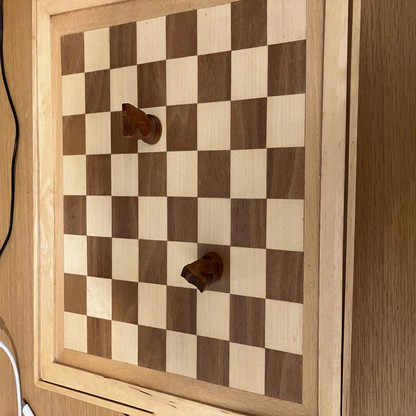knight_black: (122, 104, 162, 144), (182, 254, 222, 293)
